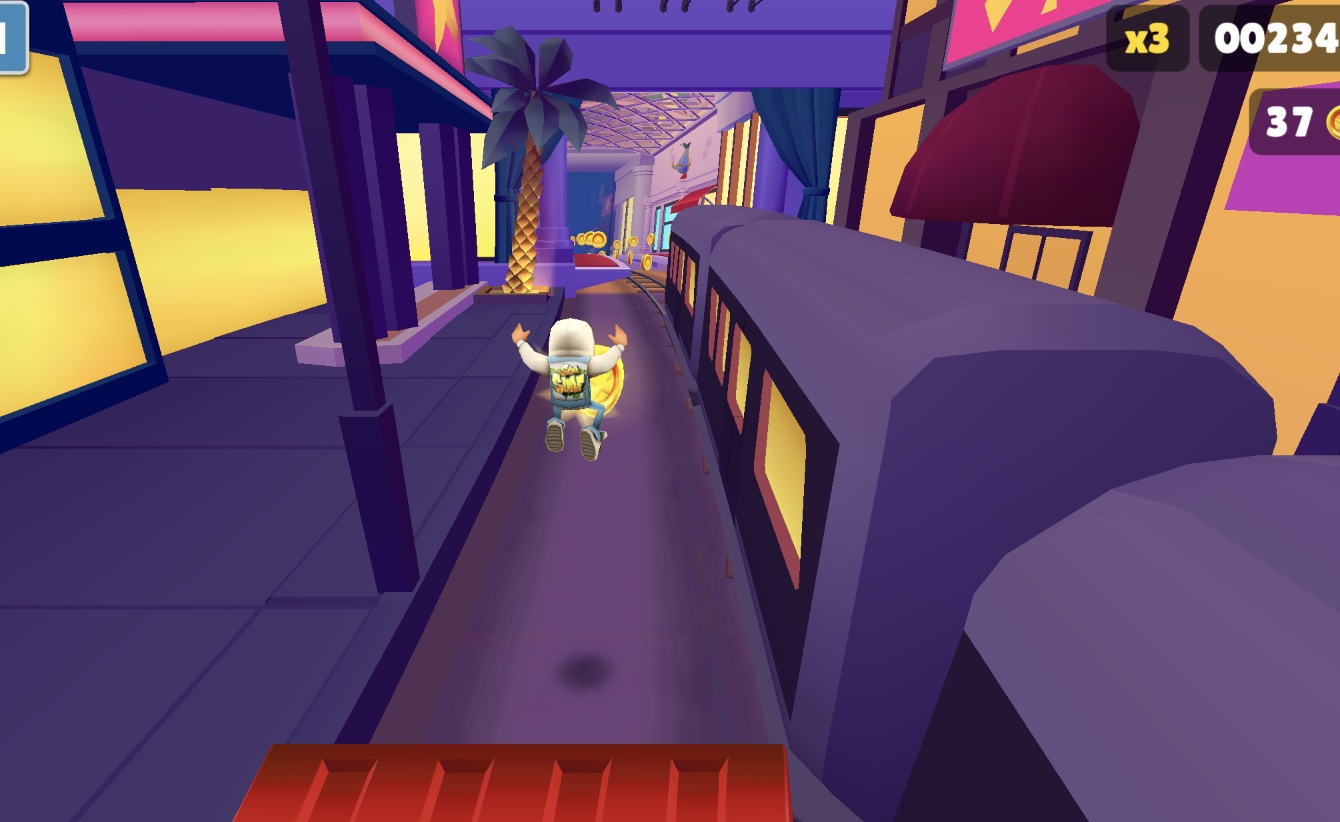ground_barrier: (225, 744, 789, 822)
train: (662, 198, 1338, 822)
